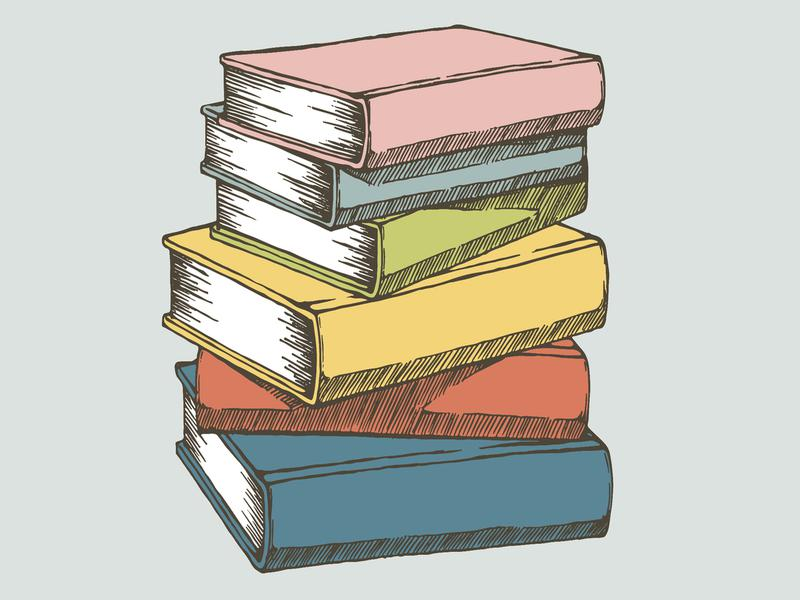book: (216, 16, 626, 164)
